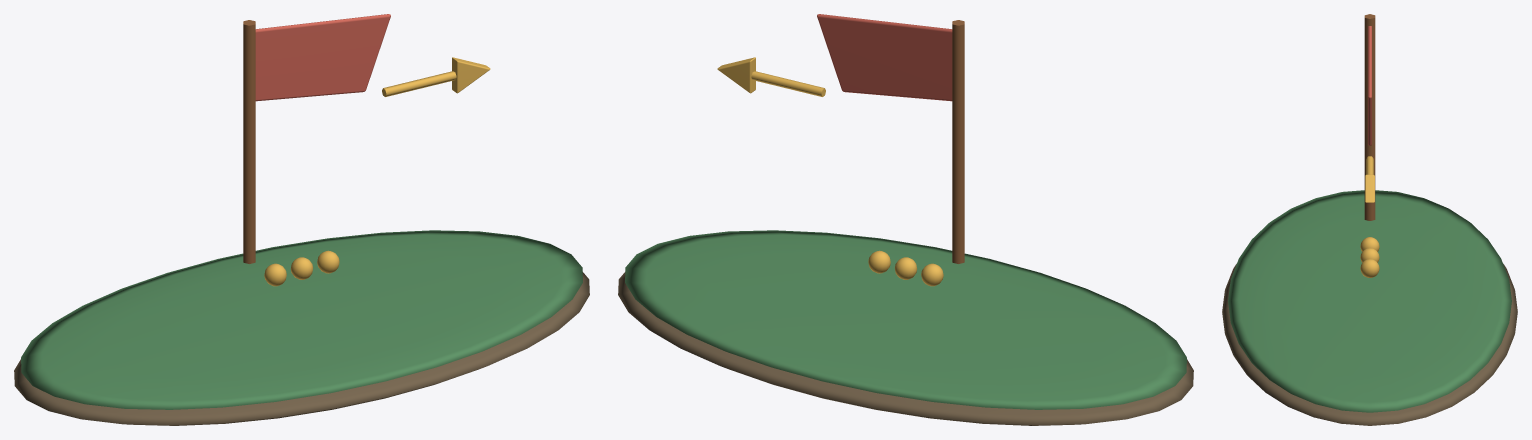
Rendered from complete-first-first-in-line.glb.
The picture shows the model from 3 angles, left to right: view 1: azimuth 30°, elevation 25°; view 2: azimuth 150°, elevation 25°; view 3: azimuth 270°, elevation 25°; orthographic projection. The views are drawn at different scales.
Parts seen in each view (by area): view 1: complete-first-first-in-line_surface_01, complete-first-first-in-line_surface_00, complete-first-first-in-line_surface_03, complete-first-first-in-line_surface_02, complete-first-first-in-line_surface_04; view 2: complete-first-first-in-line_surface_01, complete-first-first-in-line_surface_00, complete-first-first-in-line_surface_03, complete-first-first-in-line_surface_02, complete-first-first-in-line_surface_04; view 3: complete-first-first-in-line_surface_01, complete-first-first-in-line_surface_00, complete-first-first-in-line_surface_02, complete-first-first-in-line_surface_04, complete-first-first-in-line_surface_03.
Part boxes in pixels (box(x1,y1,x2,y2)): complete-first-first-in-line_surface_01: box(21, 230, 582, 409); complete-first-first-in-line_surface_00: box(14, 272, 589, 425); complete-first-first-in-line_surface_03: box(255, 14, 390, 101); complete-first-first-in-line_surface_02: box(243, 20, 255, 263); complete-first-first-in-line_surface_04: box(264, 57, 490, 286); complete-first-first-in-line_surface_01: box(625, 230, 1186, 409); complete-first-first-in-line_surface_00: box(618, 272, 1193, 425); complete-first-first-in-line_surface_03: box(817, 14, 952, 101); complete-first-first-in-line_surface_02: box(952, 20, 964, 263); complete-first-first-in-line_surface_04: box(717, 57, 943, 286); complete-first-first-in-line_surface_01: box(1228, 190, 1511, 412); complete-first-first-in-line_surface_00: box(1222, 264, 1517, 425); complete-first-first-in-line_surface_02: box(1364, 14, 1375, 220); complete-first-first-in-line_surface_04: box(1360, 156, 1379, 277); complete-first-first-in-line_surface_03: box(1368, 26, 1371, 145).
Size of the model in its own units: 4.56 by 2.68 by 2.5.
